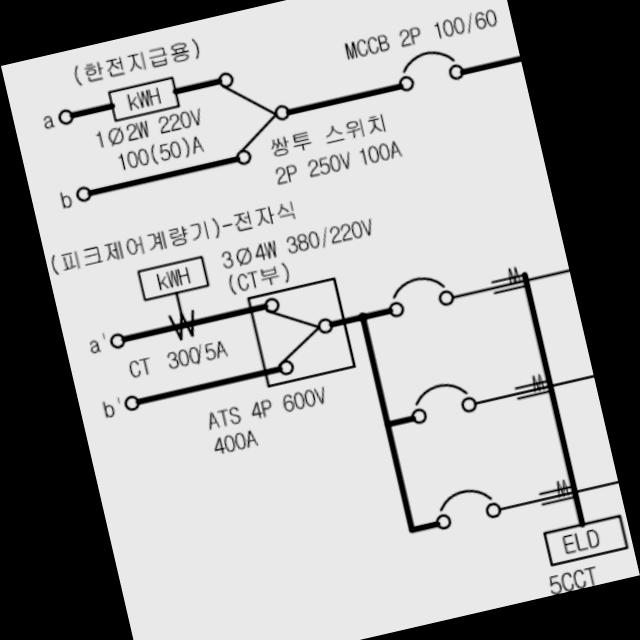CT: (166, 306, 202, 342)
ZCT: (502, 264, 524, 286), (552, 476, 572, 498), (526, 373, 547, 393)
